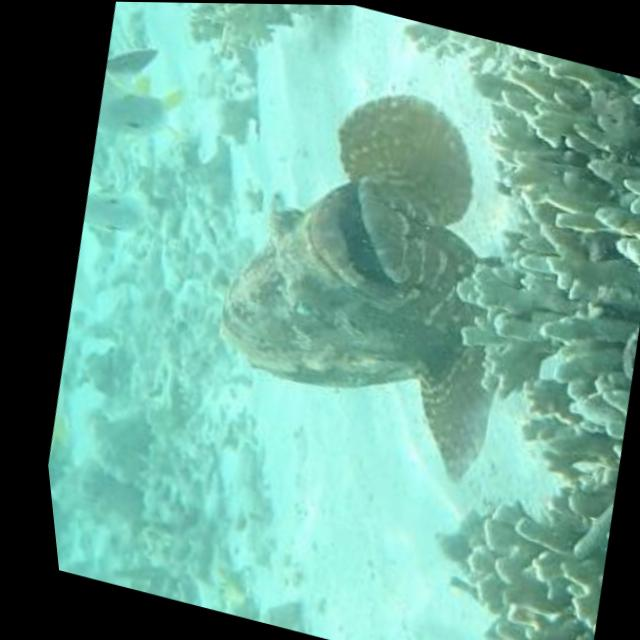Groupers: (169, 53, 570, 486)
